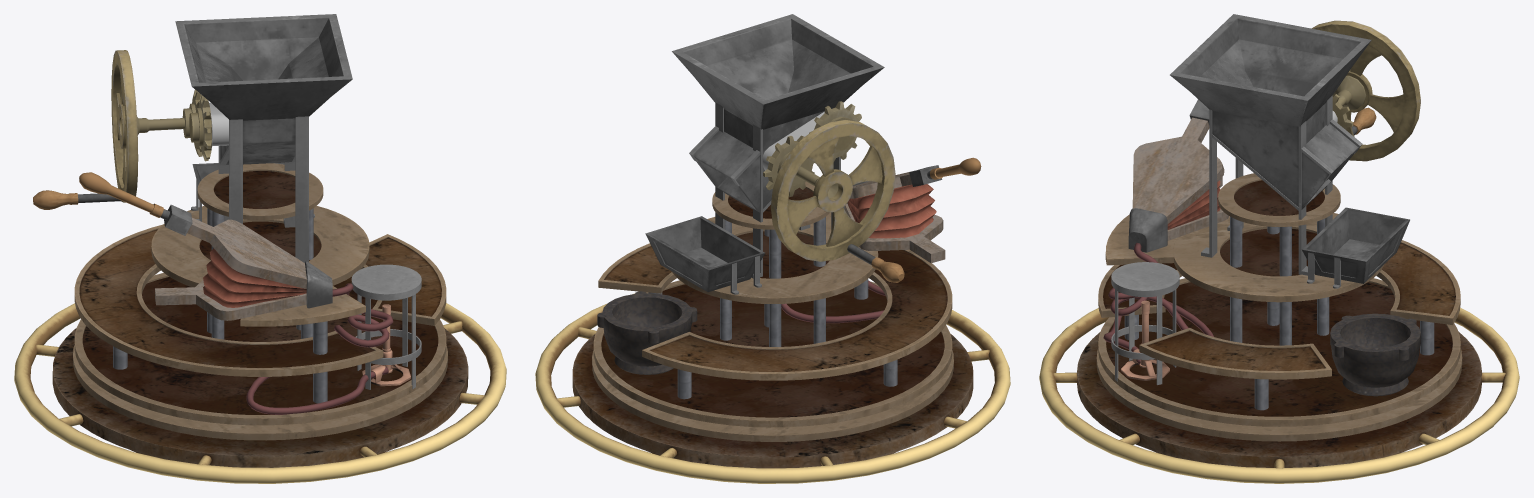
Rendered from Spinny_Thing.fbx.
3 views of the same model, side by side, from view 1: azimuth 30°, elevation 25°; view 2: azimuth 150°, elevation 25°; view 3: azimuth 270°, elevation 25° (orthographic). The views are drawn at different scales.
Parts seen in each view (by area): view 1: SpinningThing, Grinder, Bunsen_Burner, Bellows_Handle, Crank, Bellows, Gear_1, Gear_2; view 2: SpinningThing, Grinder, Crank, Mortar, Bellows, Bunsen_Burner, Bellows_Handle, Gear_1, Gear_2; view 3: SpinningThing, Grinder, Bunsen_Burner, Mortar, Bellows_Handle, Crank, Gear_1, Bellows.
Part boxes in pixels (x1,y1,x2,y2): SpinningThing: (14,163,506,483); Grinder: (175,14,352,262); Bunsen_Burner: (155,261,421,414); Bellows_Handle: (79,172,307,288); Crank: (33,50,138,209); Bellows: (203,248,306,307); Gear_1: (137,89,202,156); Gear_2: (189,95,211,161); SpinningThing: (535,181,1010,483); Grinder: (645,14,884,294); Crank: (770,120,904,282); Mortar: (597,291,697,374); Bellows: (847,184,936,238); Bunsen_Burner: (781,181,945,323); Bellows_Handle: (850,157,981,198); Gear_1: (763,135,838,198); Gear_2: (809,101,861,161); SpinningThing: (1039,173,1519,483); Grinder: (1170,14,1409,288); Bunsen_Burner: (1103,177,1228,385); Mortar: (1330,313,1420,396); Bellows_Handle: (1132,99,1224,223); Crank: (1311,20,1420,161); Gear_1: (1332,75,1366,129); Bellows: (1167,180,1220,229).
Size of the model in its own units: 158 by 124 by 158.
